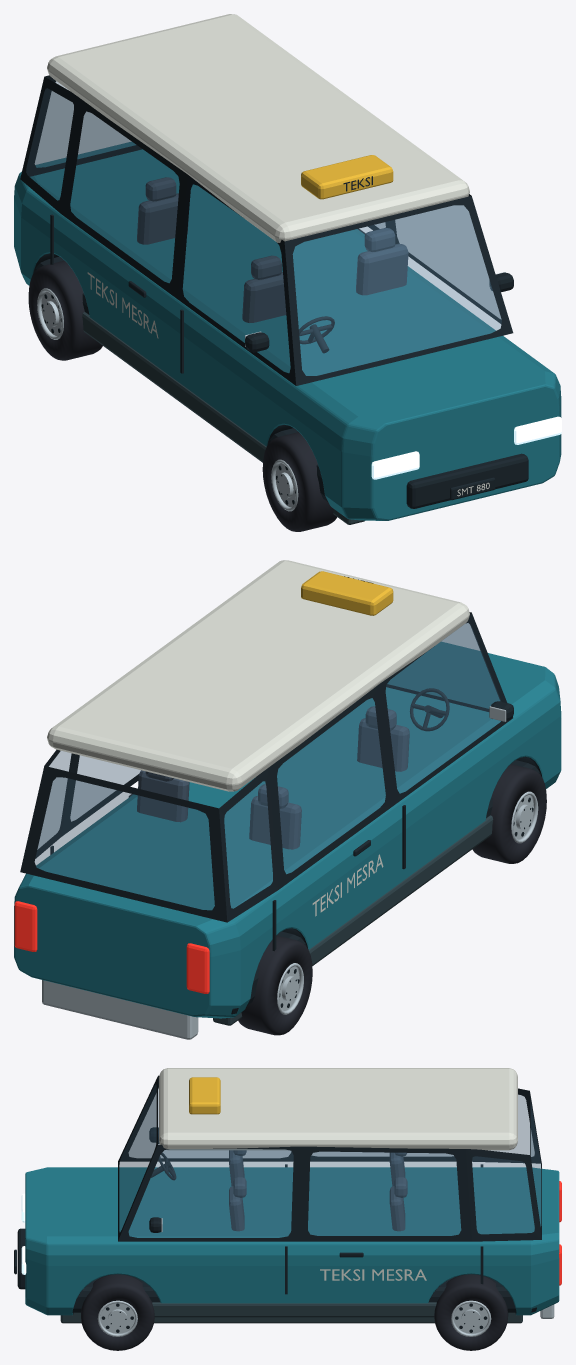
The picture shows the model from 3 angles, top to bottom: view 1: azimuth 30°, elevation 25°; view 2: azimuth 150°, elevation 25°; view 3: azimuth 270°, elevation 25°; orthographic projection. The views are drawn at different scales.
Parts seen in each view (by area): view 1: Taman Mesra Accessible Taxi; view 2: Taman Mesra Accessible Taxi; view 3: Taman Mesra Accessible Taxi.
Part boxes in pixels (<box>): Taman Mesra Accessible Taxi: <box>14,14,561,531</box>; Taman Mesra Accessible Taxi: <box>14,560,561,1039</box>; Taman Mesra Accessible Taxi: <box>14,1068,561,1350</box>.
Bounding box in the file's own units: 2.12 × 2.21 × 5.04.
